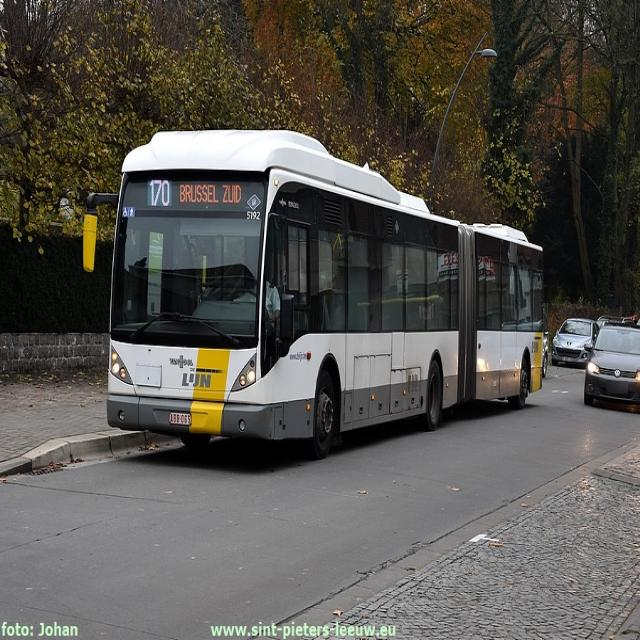bus-number: (148, 178, 172, 210)
